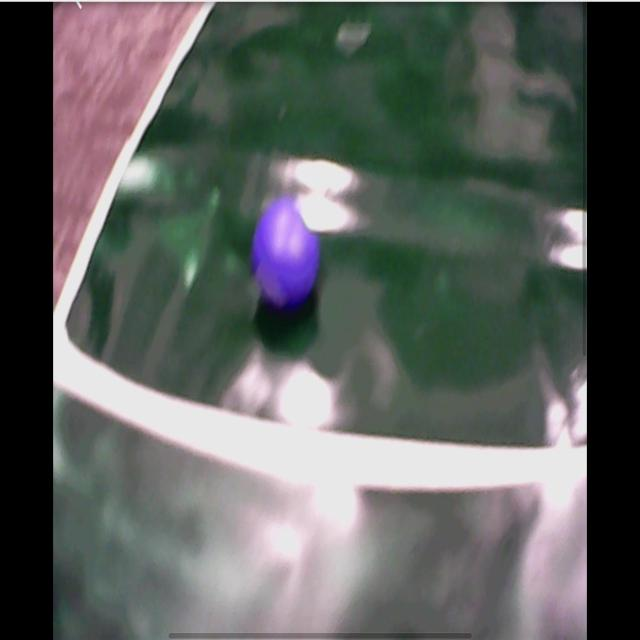ball: (255, 203, 320, 301)
